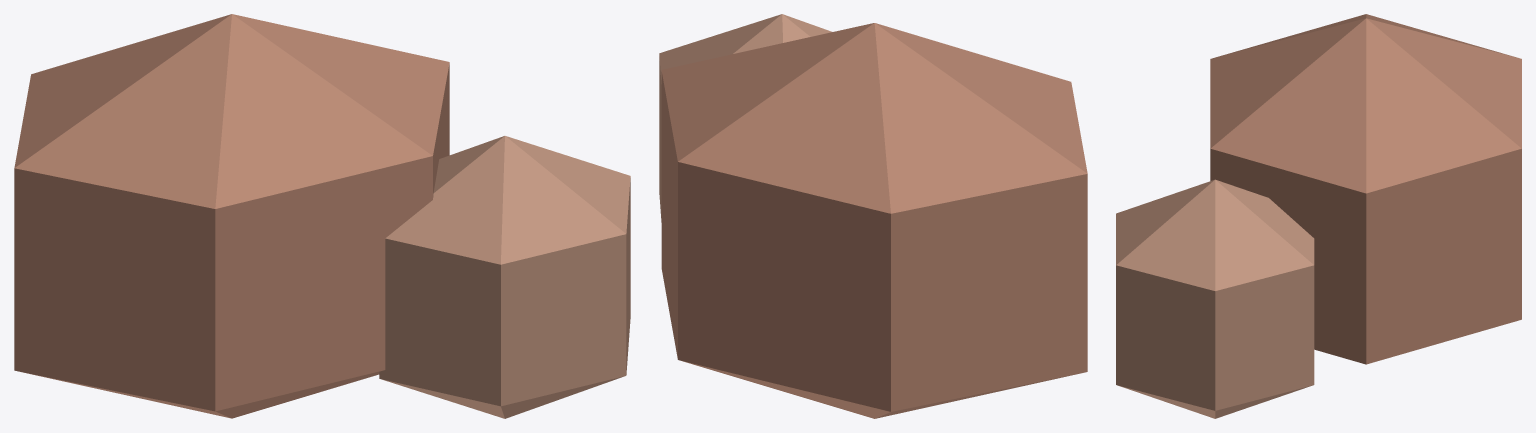
The model's file is rock_red.glb.
The picture shows the model from 3 angles, left to right: view 1: azimuth 30°, elevation 25°; view 2: azimuth 150°, elevation 25°; view 3: azimuth 270°, elevation 25°; orthographic projection. The views are drawn at different scales.
Visible parts, largest first — view 1: rock; view 2: rock; view 3: rock.
Boxes of the visible parts, x1,y1,x2,y2 form: rock: [14, 14, 630, 418]; rock: [659, 14, 1087, 418]; rock: [1116, 14, 1521, 418].
Bounding box in the file's own units: 3.41 × 2.5 × 2.69.
